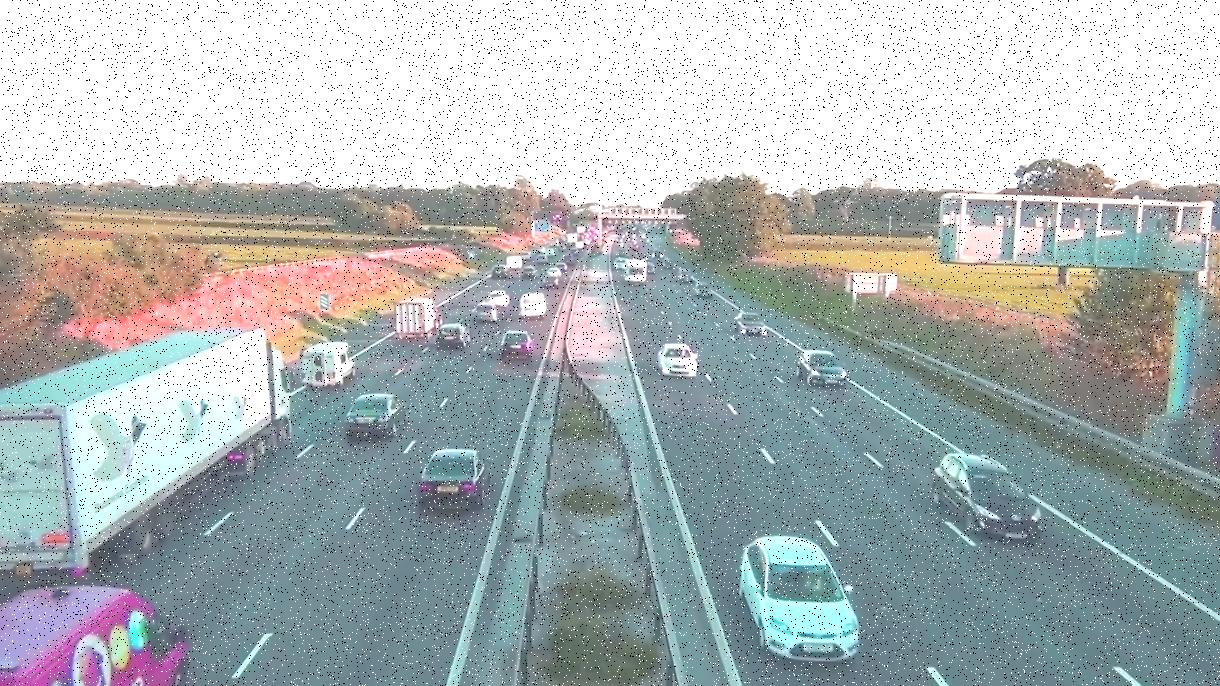car: (0, 582, 186, 686), (736, 537, 864, 662), (930, 450, 1047, 545), (417, 447, 493, 509), (342, 395, 406, 438), (801, 350, 850, 386), (660, 343, 701, 377), (428, 323, 468, 351), (496, 330, 532, 361), (734, 312, 767, 337), (617, 259, 650, 283), (522, 294, 550, 318), (471, 307, 503, 325), (695, 282, 714, 298)
truck: (0, 324, 299, 580), (299, 343, 358, 388), (394, 298, 441, 342)
